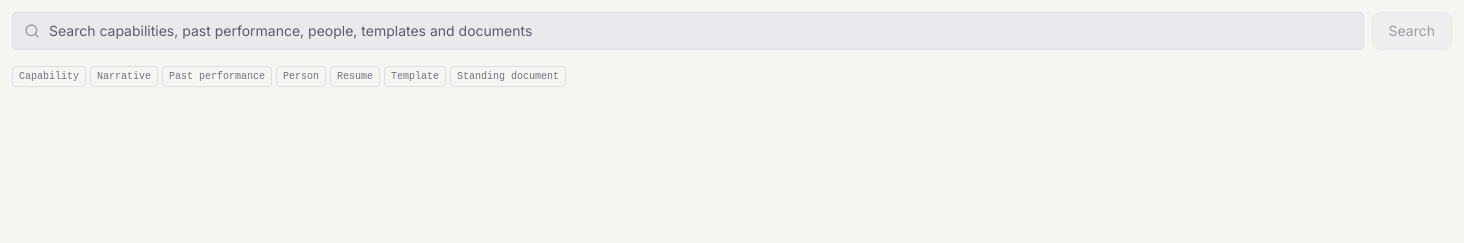
KnowledgeSearch › explains an empty result rather than implying nothing exists
Replace the text in the field named "Search knowledge" with "nothing" at (688, 31), box [12,12,1364,50]
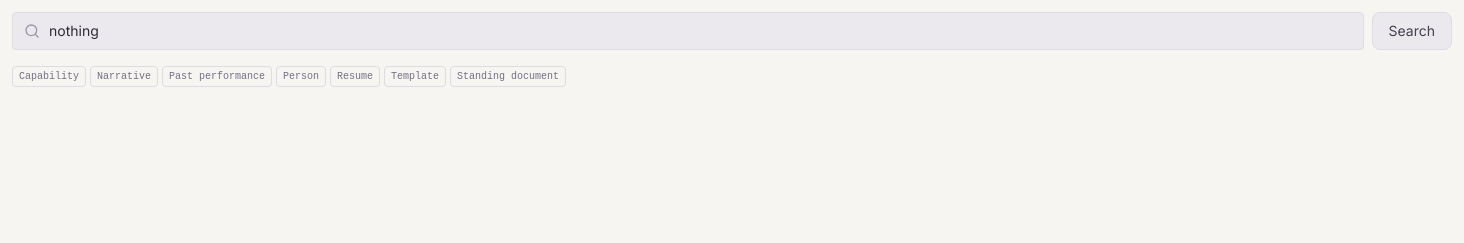
Click the button "Search" at (1412, 31), box [1372,12,1452,50]
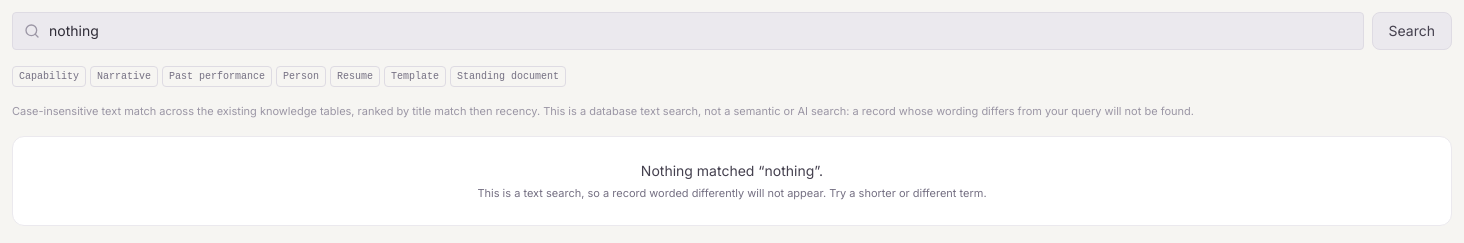
expect the text "Nothing matched “nothing”." is shown: met, box [641,162,823,178]
expect the text "a record worded differently will not appear" is shown: met, box [477,186,987,200]
